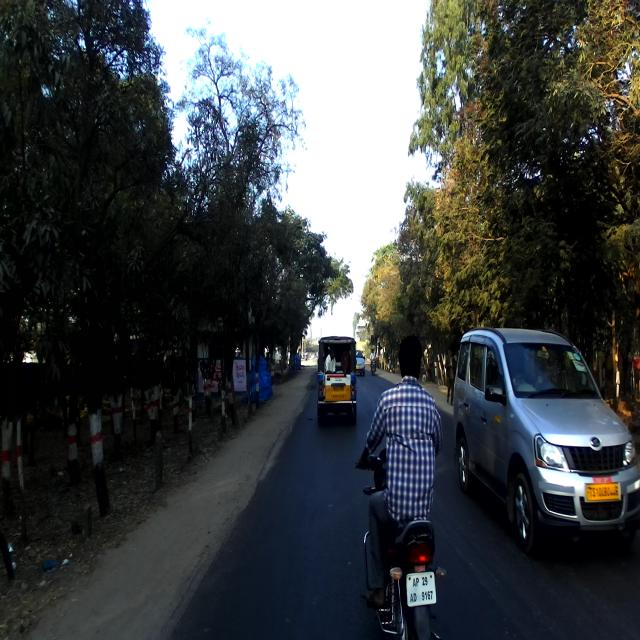car ahead at: (453, 326, 640, 561), (318, 335, 358, 415)
motorcycle ahead at: (373, 514, 444, 640)
tree ahead at: (79, 354, 114, 522), (146, 388, 168, 487)
